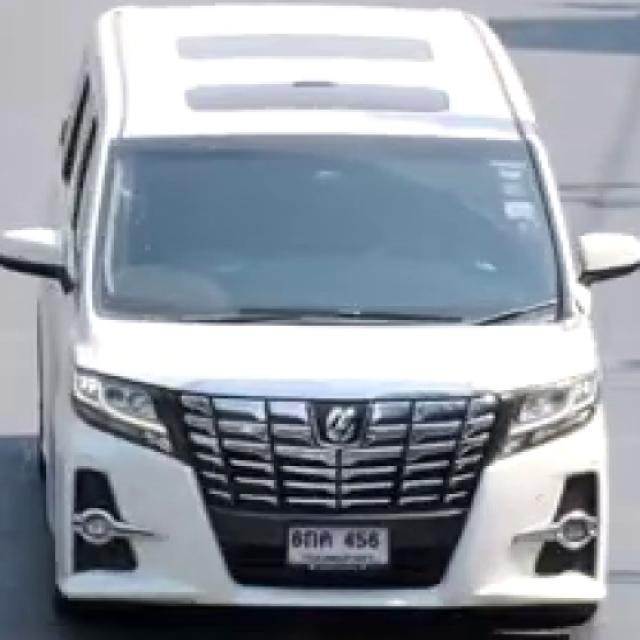plate: (284, 521, 394, 574)
